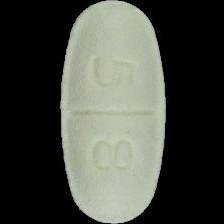51138-585: (0, 0, 224, 224)
